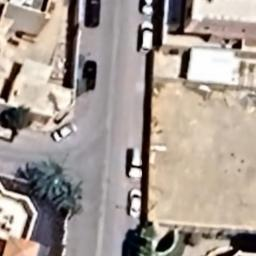sedan: (48, 120, 82, 145), (124, 188, 146, 221)
unknown: (81, 56, 101, 92), (84, 2, 104, 29)
van: (121, 146, 148, 180), (136, 20, 158, 56)
